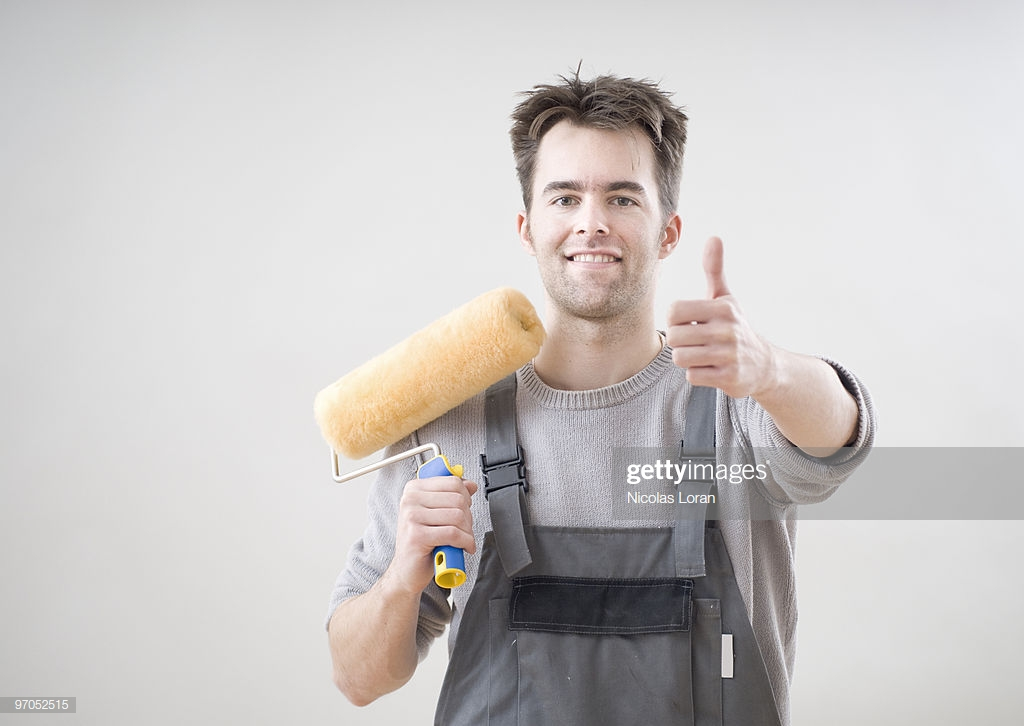thumbsup: (665, 235, 739, 388)
